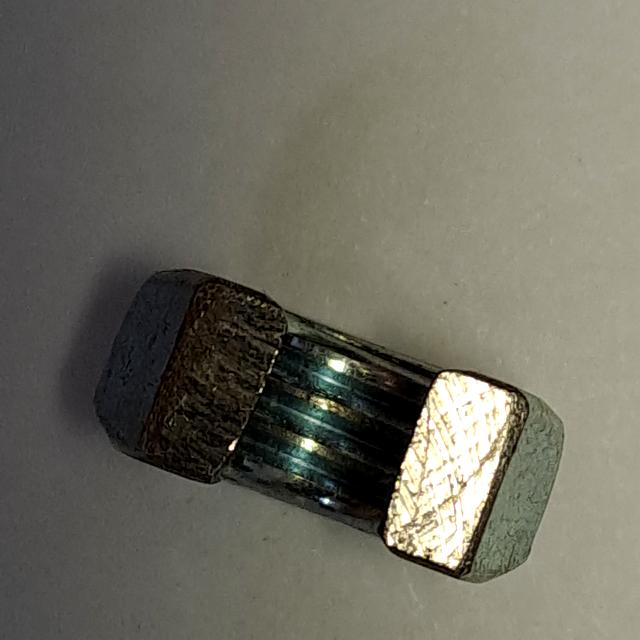Side-Fracture: (83, 250, 576, 601)
